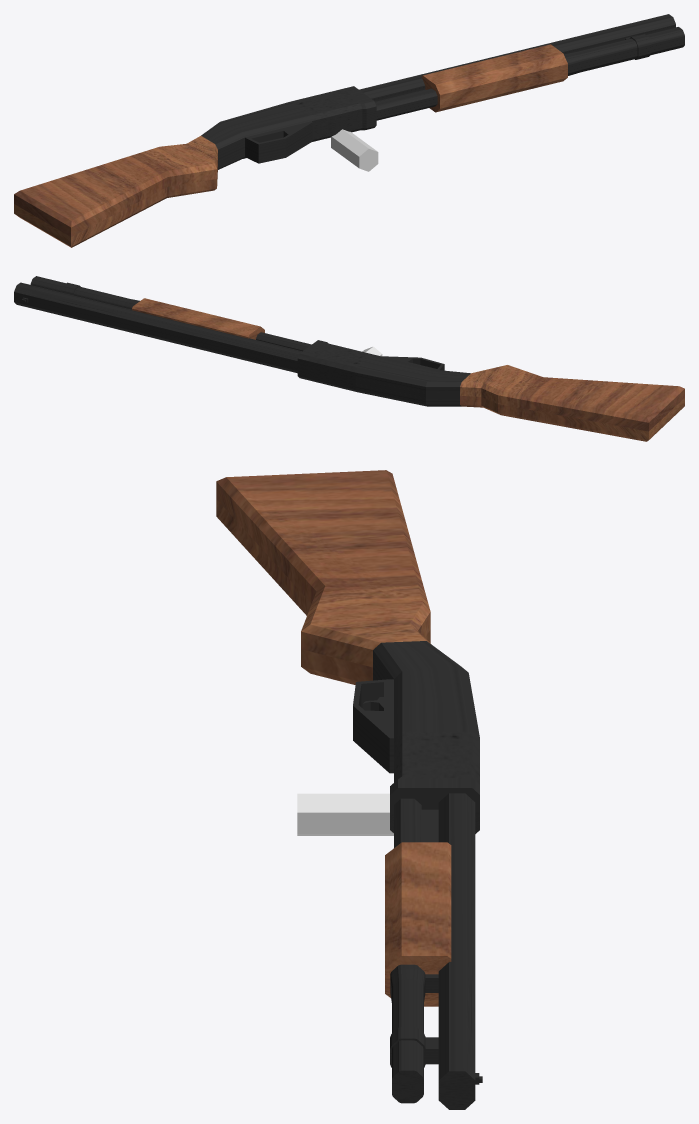
Rendered from shotgun_only.glb.
The picture shows the model from 3 angles, top to bottom: view 1: azimuth 30°, elevation 25°; view 2: azimuth 150°, elevation 25°; view 3: azimuth 270°, elevation 25°; orthographic projection. The views are drawn at different scales.
Parts seen in each view (by area): view 1: Cube, Cube.001, SHELL; view 2: Cube, Cube.001; view 3: Cube, Cube.001, SHELL.
Part boxes in pixels (x1=…): Cube: x1=14, y1=14, x2=684, y2=247; Cube.001: x1=421, y1=44, x2=567, y2=112; SHELL: x1=331, y1=129, x2=378, y2=171; Cube: x1=14, y1=276, x2=684, y2=441; Cube.001: x1=132, y1=298, x2=264, y2=339; Cube: x1=216, y1=470, x2=482, y2=1109; Cube.001: x1=385, y1=842, x2=451, y2=1006; SHELL: x1=297, y1=793, x2=393, y2=835.
Bounding box in the file's own units: 1.53 × 0.0933 × 0.288.
2 materials, 2 textured.
